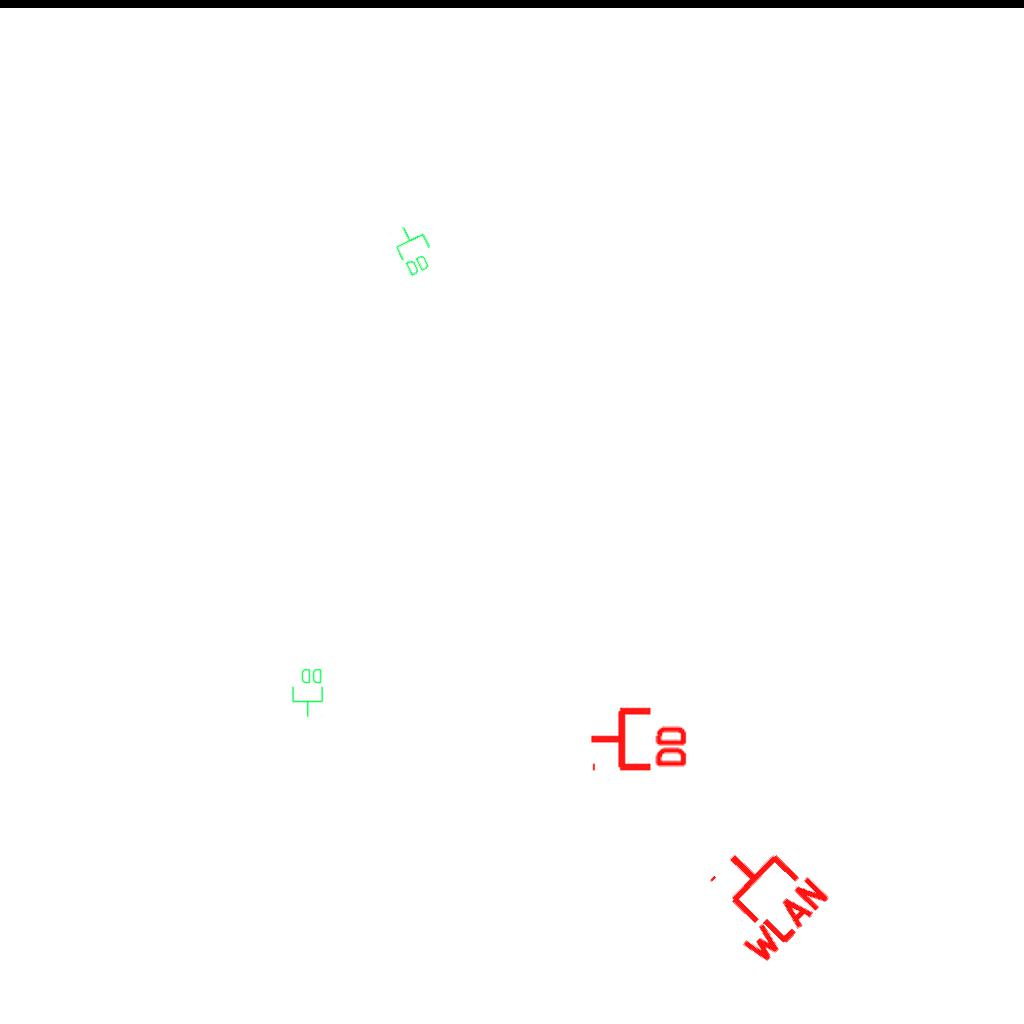Datenanschluss_zweifach: (588, 703, 691, 772), (387, 218, 440, 280), (291, 667, 325, 718)
WLAN: (686, 823, 835, 971)
